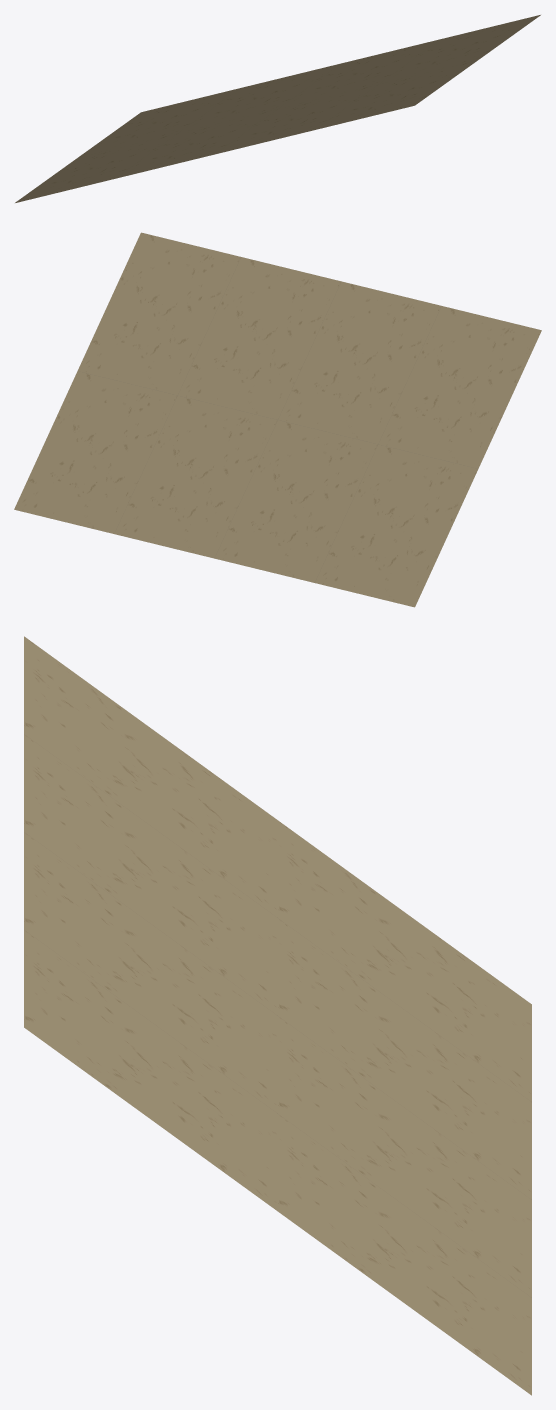
Rendered from SW_ENV_StationStair_Mid_Ceiling_FF.fbx.
The picture shows the model from 3 angles, top to bottom: view 1: azimuth 30°, elevation 25°; view 2: azimuth 150°, elevation 25°; view 3: azimuth 270°, elevation 25°; orthographic projection. The views are drawn at different scales.
Visible parts, largest first — view 1: SW_ENV_StationStair_Mid_Ceiling_FF; view 2: SW_ENV_StationStair_Mid_Ceiling_FF; view 3: SW_ENV_StationStair_Mid_Ceiling_FF.
Boxes of the visible parts, bbox=[...] form: SW_ENV_StationStair_Mid_Ceiling_FF: bbox=[15, 15, 540, 202]; SW_ENV_StationStair_Mid_Ceiling_FF: bbox=[14, 232, 541, 607]; SW_ENV_StationStair_Mid_Ceiling_FF: bbox=[24, 636, 531, 1395].
Size of the model in its own units: 410 by 180 by 225.
